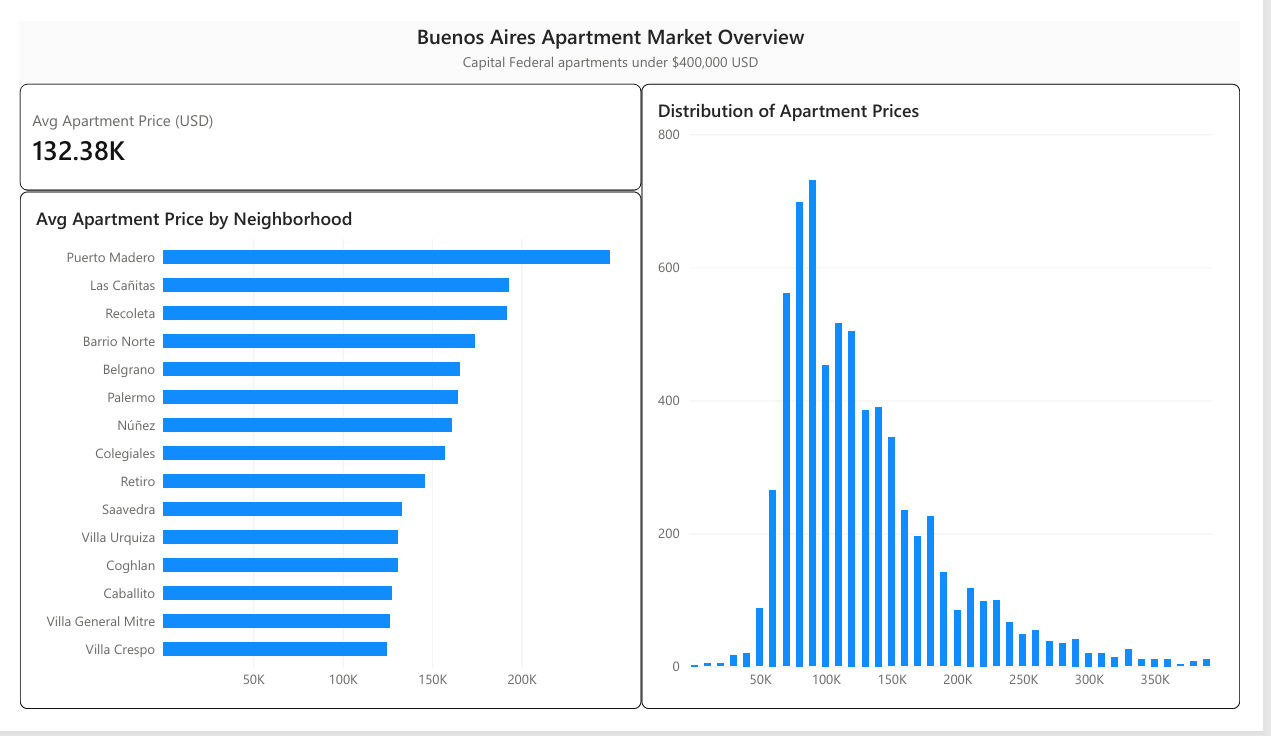

What the dashboard file says about the page in this screenshot:
{"tool":"powerbi","page":{"name":"Page 1","canvas":[1280,720],"ordinal":0},"visuals":[{"type":"columnChart","title":"Distribution of Apartment Prices","fields":{"Category":["apartment_prices__cleaned.price_aprox_usd (bins)"],"Y":["CountNonNull(apartment_prices__cleaned.price_aprox_usd)"]},"box":[652.2,65.2,628.3,655.3],"z":0},{"type":"barChart","title":"Avg Apartment Price by Neighborhood","fields":{"Category":["apartment_prices__cleaned.neighborhood"],"Y":["Avg(apartment_prices__cleaned.price_aprox_usd)"]},"box":[0,178.1,652.2,542.4],"z":1000},{"type":"textbox","title":"Buenos Aires Apartment Market Overview","box":[0,0,1238.9,65.6],"z":2000},{"type":"cardVisual","title":"Avg Apartment Price (USD)","fields":{"Data":["Avg(apartment_prices__cleaned.price_aprox_usd)"]},"box":[0,65.2,652.2,112.9],"z":3000}]}

Visuals, with their boxes in screenshot pixels (x1, y1, x2, y2), scaled from the page's 1280x720 canvas onto the 1271x736 screenshot:
"Distribution of Apartment Prices" columnChart: <box>648,67,1270,735</box>
"Avg Apartment Price by Neighborhood" barChart: <box>0,182,648,735</box>
"Buenos Aires Apartment Market Overview" textbox: <box>0,0,1230,67</box>
"Avg Apartment Price (USD)" cardVisual: <box>0,67,648,182</box>
